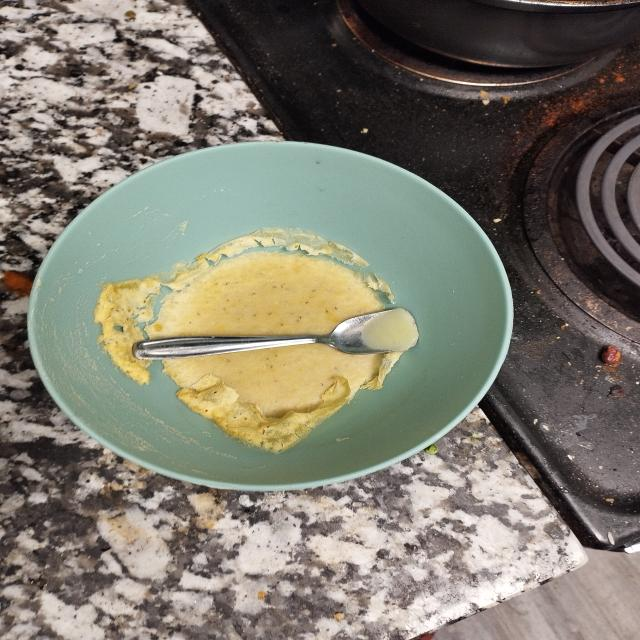Spoon: (116, 295, 440, 393)
